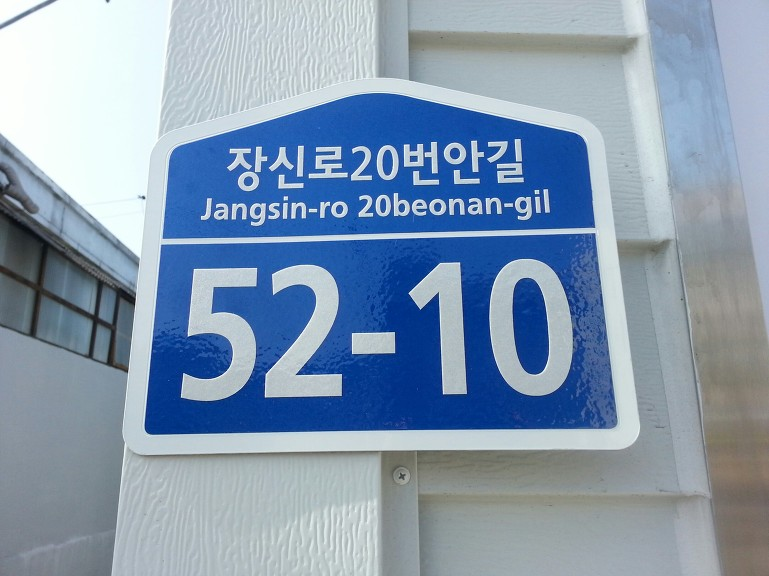building_license_plate1: (122, 77, 642, 457)
